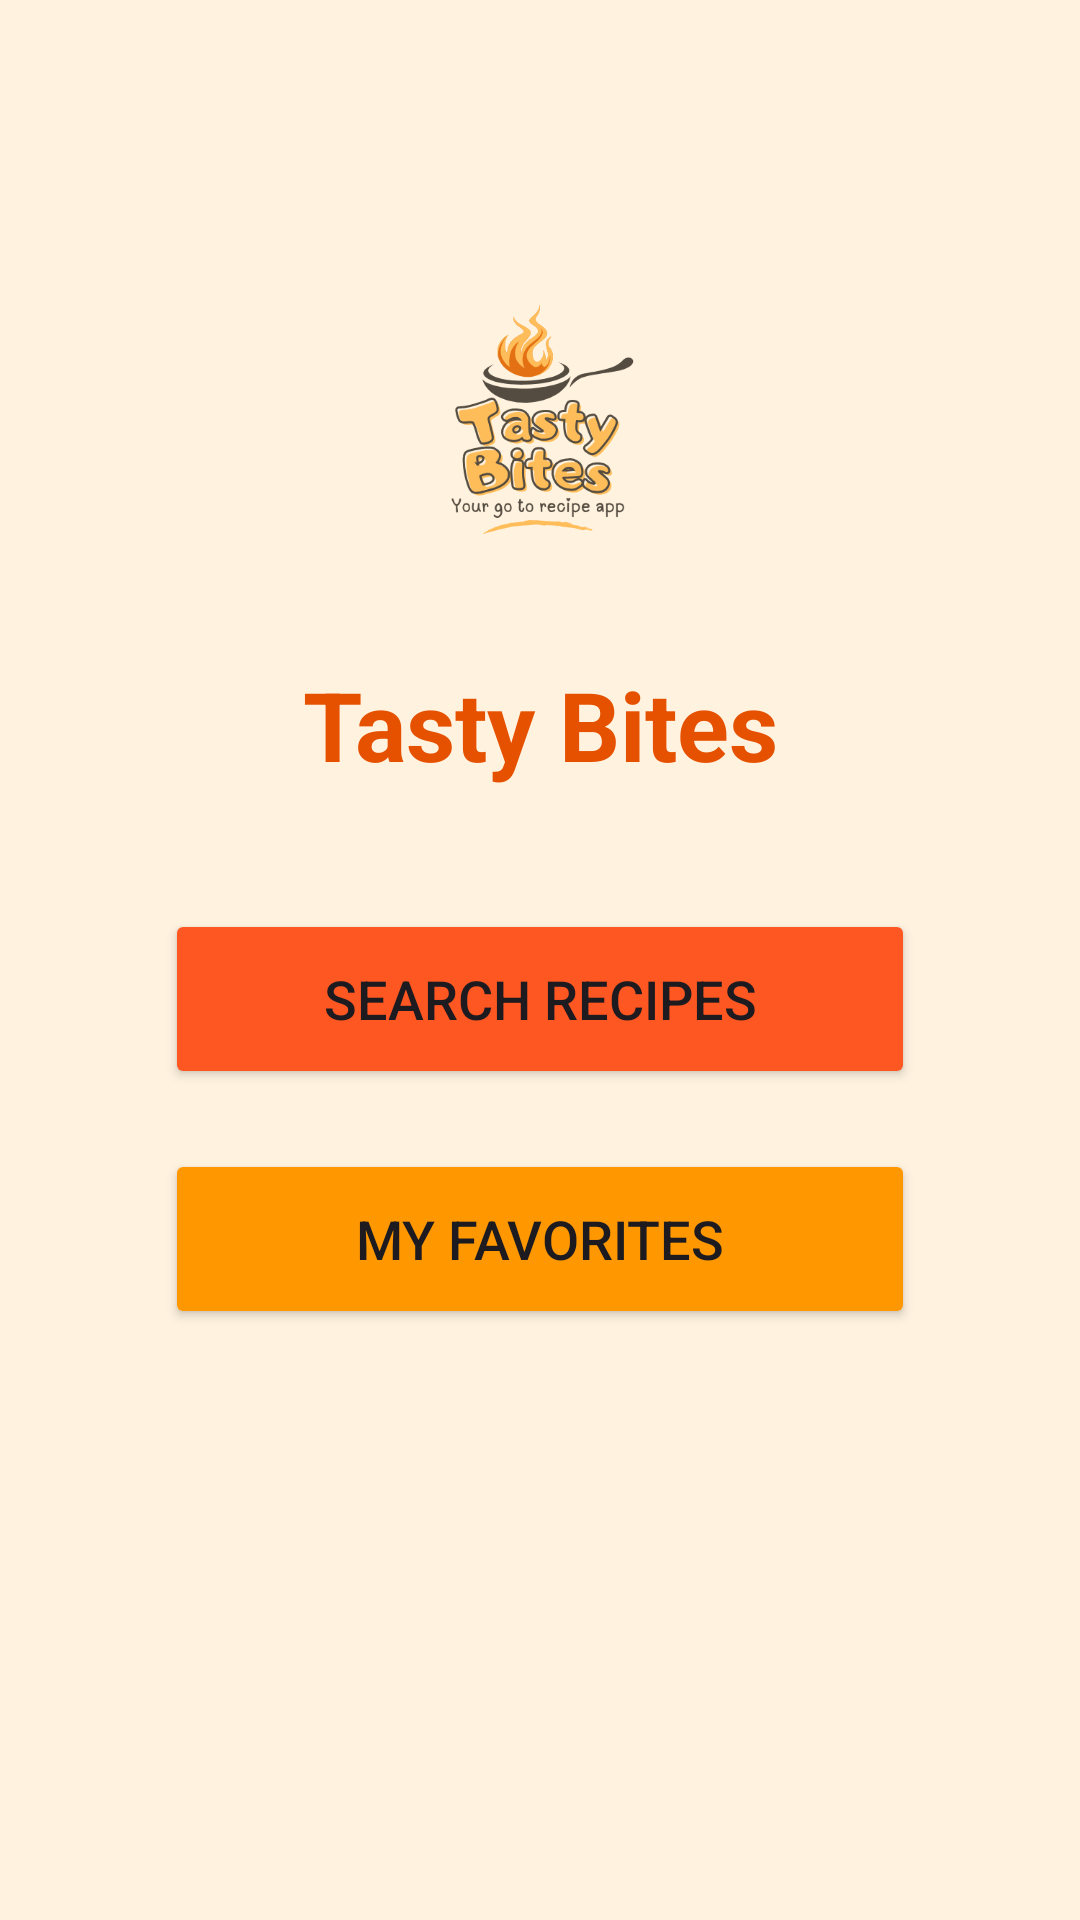

Icon bounding boxes for this 1080×1920 phone screenshot, format (x1, y1, x2, y2):
cooking: (451, 305, 634, 534)
